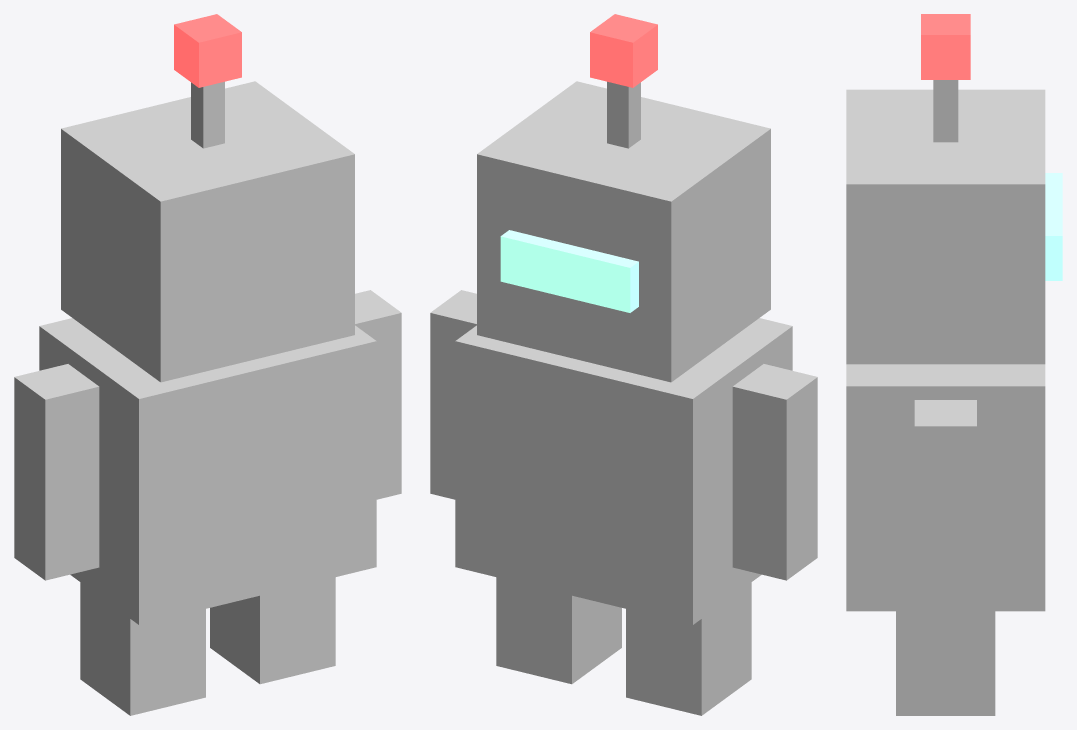
File: RobotToy.fbx
3 views of the same model, side by side, from view 1: azimuth 30°, elevation 25°; view 2: azimuth 150°, elevation 25°; view 3: azimuth 270°, elevation 25° (orthographic).
Parts seen in each view (by area): view 1: Robot Toy_body_1, Robot Toy_body_0, Robot Toy_body_6, Robot Toy_body_8, Robot Toy_body_7, Robot Toy_body_5, Robot Toy_body_4, Robot Toy_body_3; view 2: Robot Toy_body_0, Robot Toy_body_1, Robot Toy_body_6, Robot Toy_body_8, Robot Toy_body_7, Robot Toy_body_2, Robot Toy_body_5, Robot Toy_body_4, Robot Toy_body_3; view 3: Robot Toy_body_1, Robot Toy_body_0, Robot Toy_body_5, Robot Toy_body_7, Robot Toy_body_4, Robot Toy_body_2, Robot Toy_body_3.
Boxes of the visible parts, box(x1,y1,x2,y2) form: Robot Toy_body_1: box(61, 81, 354, 382); Robot Toy_body_0: box(39, 318, 376, 624); Robot Toy_body_6: box(14, 364, 99, 580); Robot Toy_body_8: box(80, 582, 205, 715); Robot Toy_body_7: box(210, 577, 335, 684); Robot Toy_body_5: box(355, 290, 401, 499); Robot Toy_body_4: box(174, 14, 241, 87); Robot Toy_body_3: box(191, 81, 224, 148); Robot Toy_body_0: box(455, 318, 792, 624); Robot Toy_body_1: box(477, 81, 770, 382); Robot Toy_body_6: box(732, 364, 817, 580); Robot Toy_body_8: box(626, 582, 751, 715); Robot Toy_body_7: box(496, 577, 621, 684); Robot Toy_body_2: box(500, 230, 638, 312); Robot Toy_body_5: box(430, 290, 476, 499); Robot Toy_body_4: box(590, 14, 657, 87); Robot Toy_body_3: box(607, 81, 640, 148); Robot Toy_body_1: box(846, 89, 1045, 364); Robot Toy_body_0: box(846, 364, 1045, 611); Robot Toy_body_5: box(914, 400, 976, 606); Robot Toy_body_7: box(896, 611, 995, 715); Robot Toy_body_4: box(921, 14, 970, 79); Robot Toy_body_2: box(1045, 173, 1062, 280); Robot Toy_body_3: box(933, 80, 958, 142).
Bounding box in the file's own units: 165 × 285 × 87.
